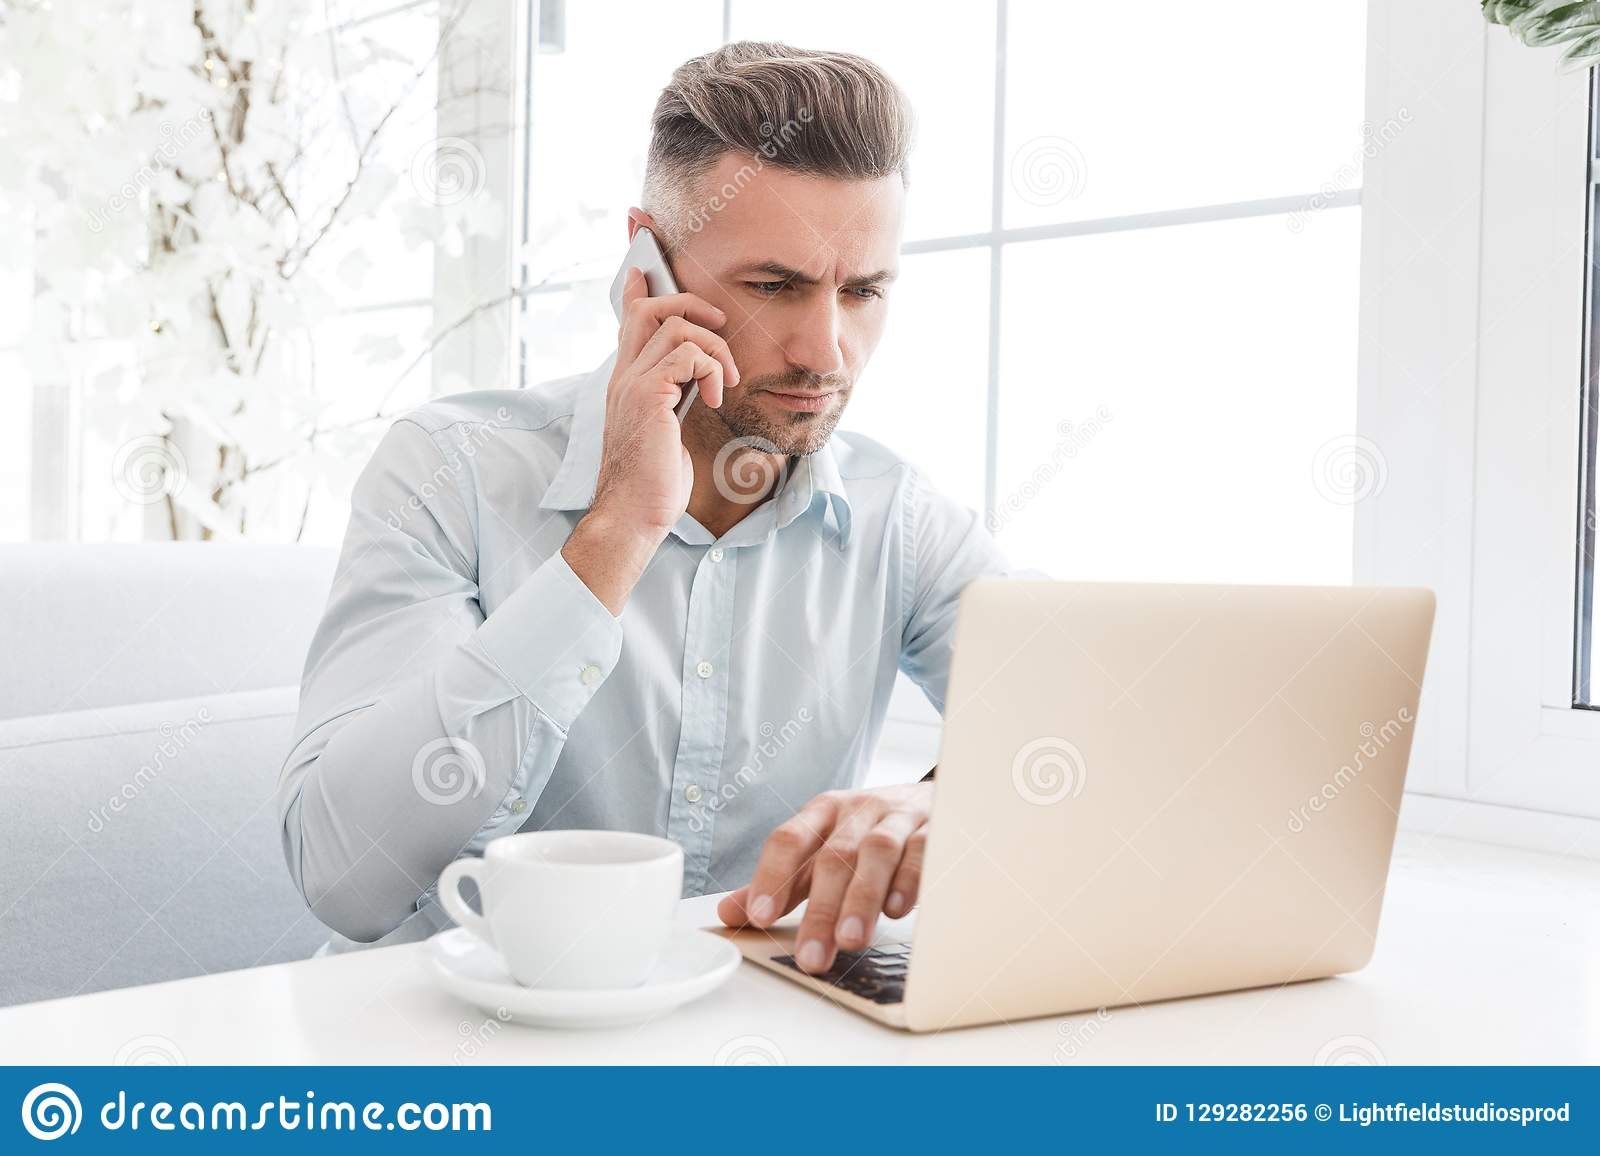phone: (607, 224, 704, 441)
talk: (590, 211, 901, 549)
